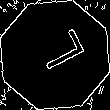L_SW: (26, 30, 84, 80)
